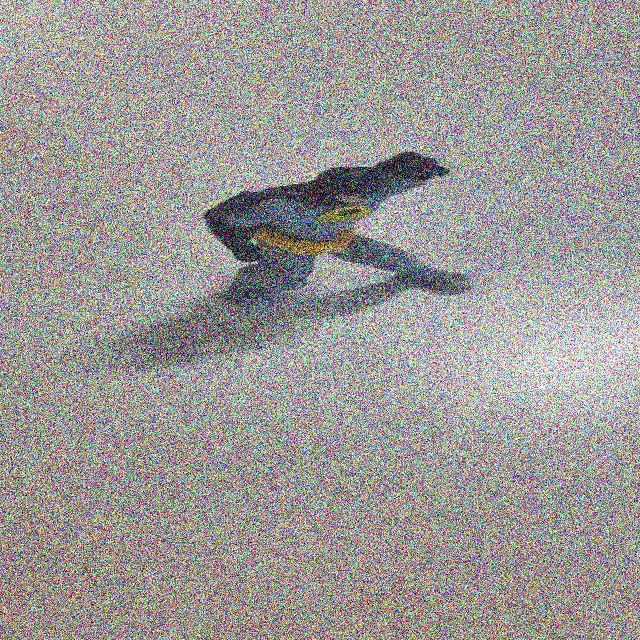Batman: (163, 125, 497, 335)
